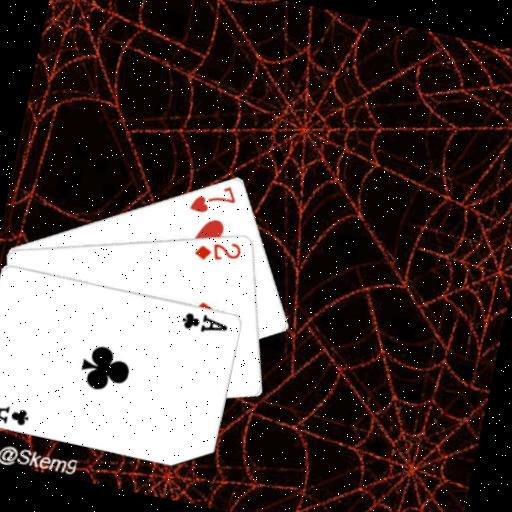2D: (190, 231, 245, 268)
7H: (185, 174, 241, 220)
AC: (178, 306, 231, 338), (0, 396, 32, 428)
